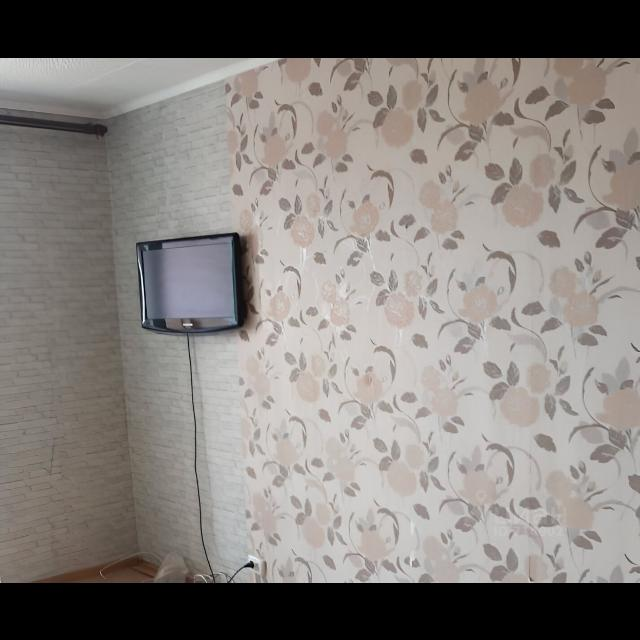Flat-Panel-TV: (138, 233, 242, 335)
